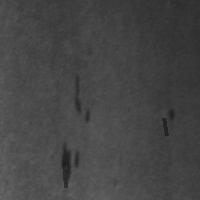inclusion: (67, 72, 92, 125), (58, 140, 82, 186), (164, 103, 179, 126), (61, 161, 67, 189), (161, 116, 168, 137)
